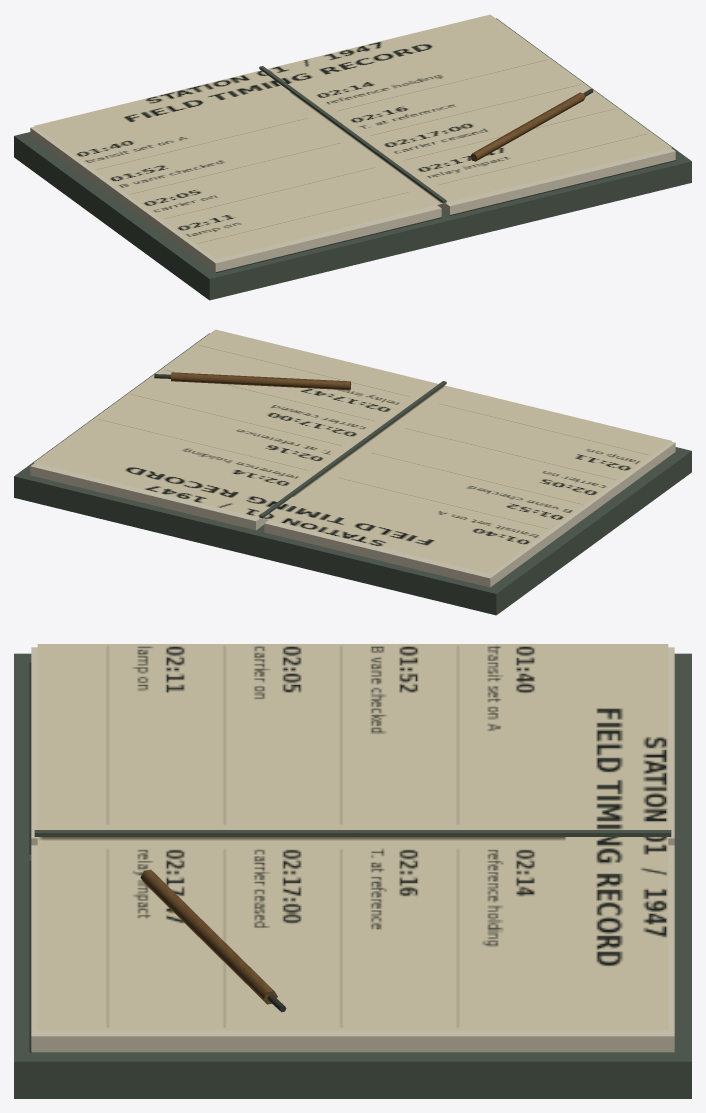
File: SM_FieldKit_TimingLog_LOD1.fbx
3 views of the same model, one above another, from view 1: azimuth 30°, elevation 25°; view 2: azimuth 150°, elevation 25°; view 3: azimuth 270°, elevation 25° (orthographic). The views are drawn at different scales.
Parts seen in each view (by area): view 1: SM_FieldKit_TimingLog_LOD1; view 2: SM_FieldKit_TimingLog_LOD1; view 3: SM_FieldKit_TimingLog_LOD1.
Part boxes in pixels (<box>): SM_FieldKit_TimingLog_LOD1: <box>14,14,691,300</box>; SM_FieldKit_TimingLog_LOD1: <box>14,329,691,615</box>; SM_FieldKit_TimingLog_LOD1: <box>14,644,691,1098</box>.
Bounding box in the file's own units: 0.47 × 0.33 × 0.0413.
